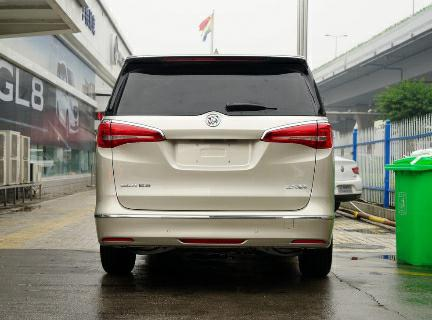别克-凯越: (88, 54, 341, 284)
